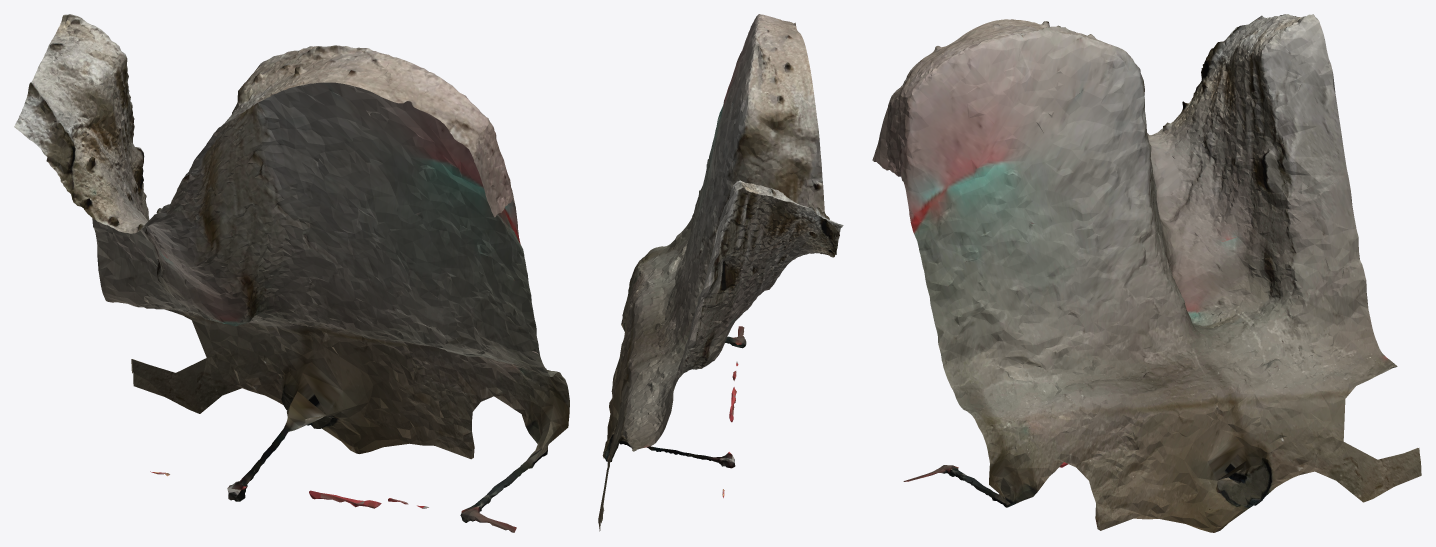
File: tile_3_7.obj
3 views of the same model, side by side, from view 1: azimuth 30°, elevation 25°; view 2: azimuth 150°, elevation 25°; view 3: azimuth 270°, elevation 25° (orthographic). The views are drawn at different scales.
Parts seen in each view (by area): view 1: texture_0; view 2: texture_0; view 3: texture_0.
Boxes of the visible parts, x1=… form: texture_0: x1=14, y1=14, x2=569, y2=532; texture_0: x1=598, y1=14, x2=843, y2=531; texture_0: x1=872, y1=14, x2=1421, y2=532.
Size of the model in its own units: 0.3357 by 0.389 by 0.4202.
Materials: 1 (1 with a texture image).
